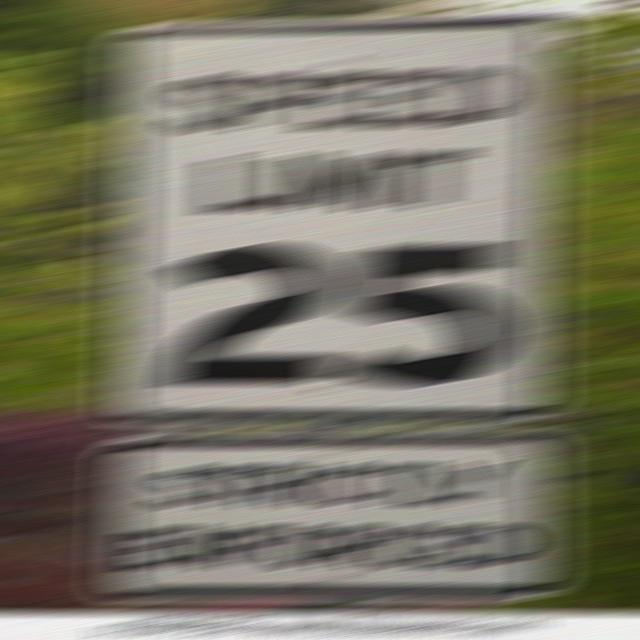speedLimit25: (106, 26, 555, 420)
